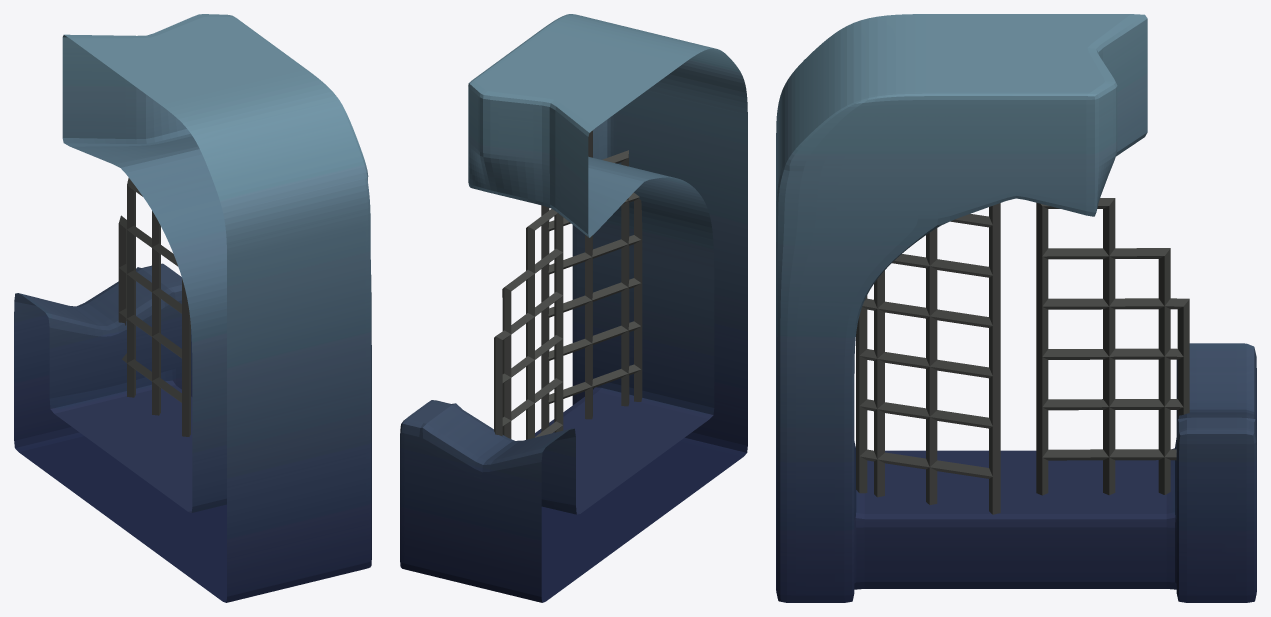
The model's file is Pared.fbx.
3 renders of one model, left to right at view 1: azimuth 30°, elevation 25°; view 2: azimuth 150°, elevation 25°; view 3: azimuth 270°, elevation 25°, orthographic. The views are drawn at different scales.
Visible parts, largest first — view 1: ParedPuertaBC.002, Plane.006; view 2: ParedPuertaBC.002, Plane.002, Plane.006; view 3: ParedPuertaBC.002, Plane.006, Plane.002.
Boxes of the visible parts, x1=… form: ParedPuertaBC.002: x1=14, y1=14, x2=371, y2=602; Plane.006: x1=118, y1=178, x2=190, y2=436; ParedPuertaBC.002: x1=400, y1=14, x2=747, y2=602; Plane.002: x1=541, y1=130, x2=642, y2=431; Plane.006: x1=494, y1=209, x2=563, y2=439; ParedPuertaBC.002: x1=776, y1=14, x2=1256, y2=602; Plane.006: x1=1036, y1=198, x2=1189, y2=495; Plane.002: x1=856, y1=203, x2=1000, y2=514.
Size of the model in its own units: 480 by 1400 by 1198.
